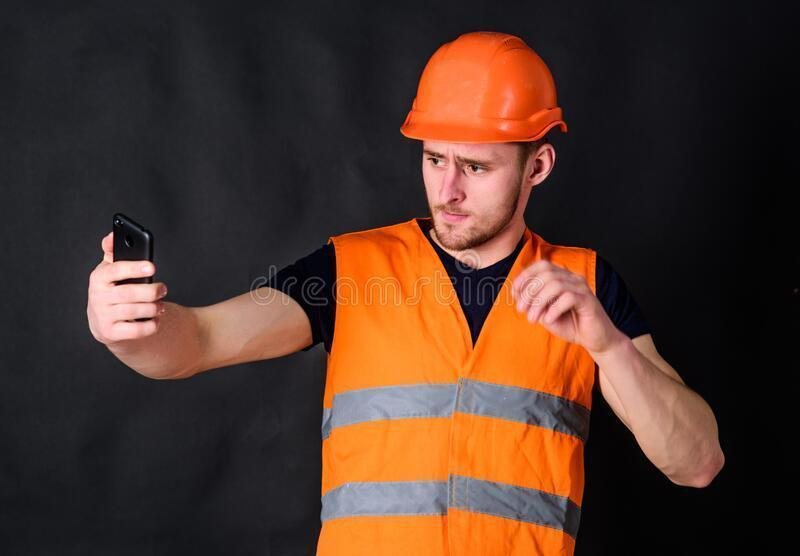helmet: (400, 27, 570, 147)
